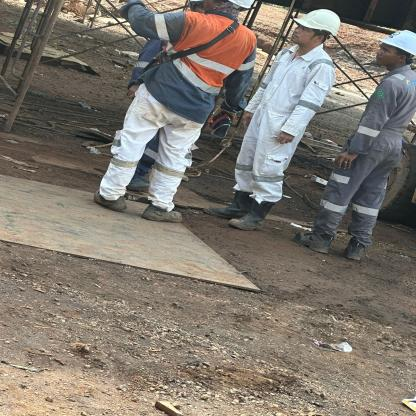bota: (230, 201, 272, 232), (208, 188, 250, 218), (292, 227, 338, 254), (144, 200, 186, 223), (93, 189, 128, 211), (345, 238, 366, 260)
